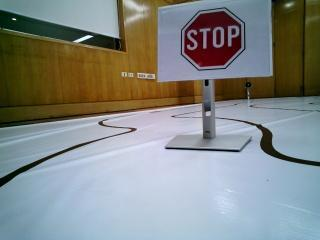stop: (155, 10, 268, 73)
